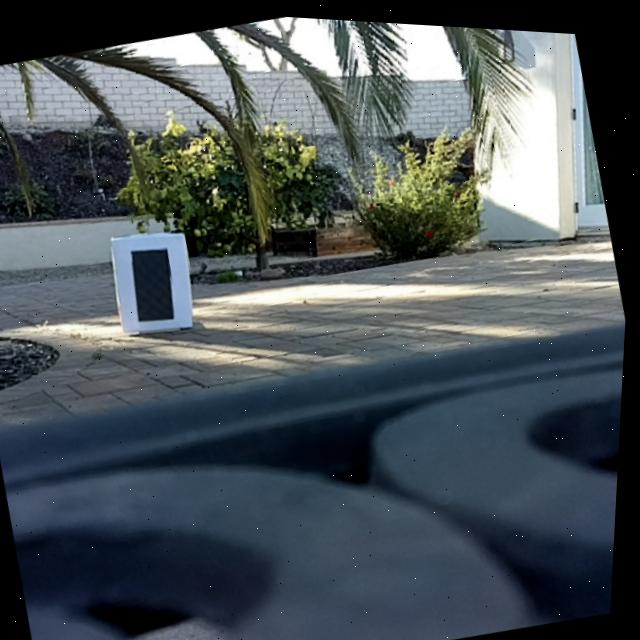led: (125, 237, 188, 326)
